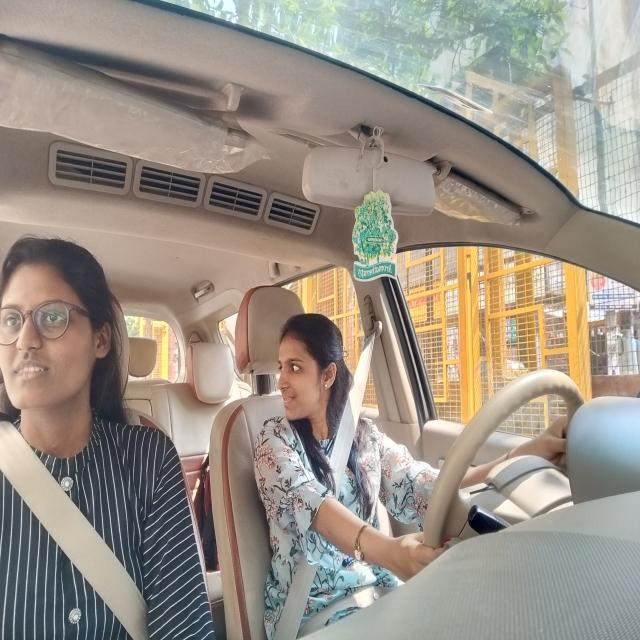LeftRight: (273, 305, 347, 431)
person: (0, 240, 126, 423)
